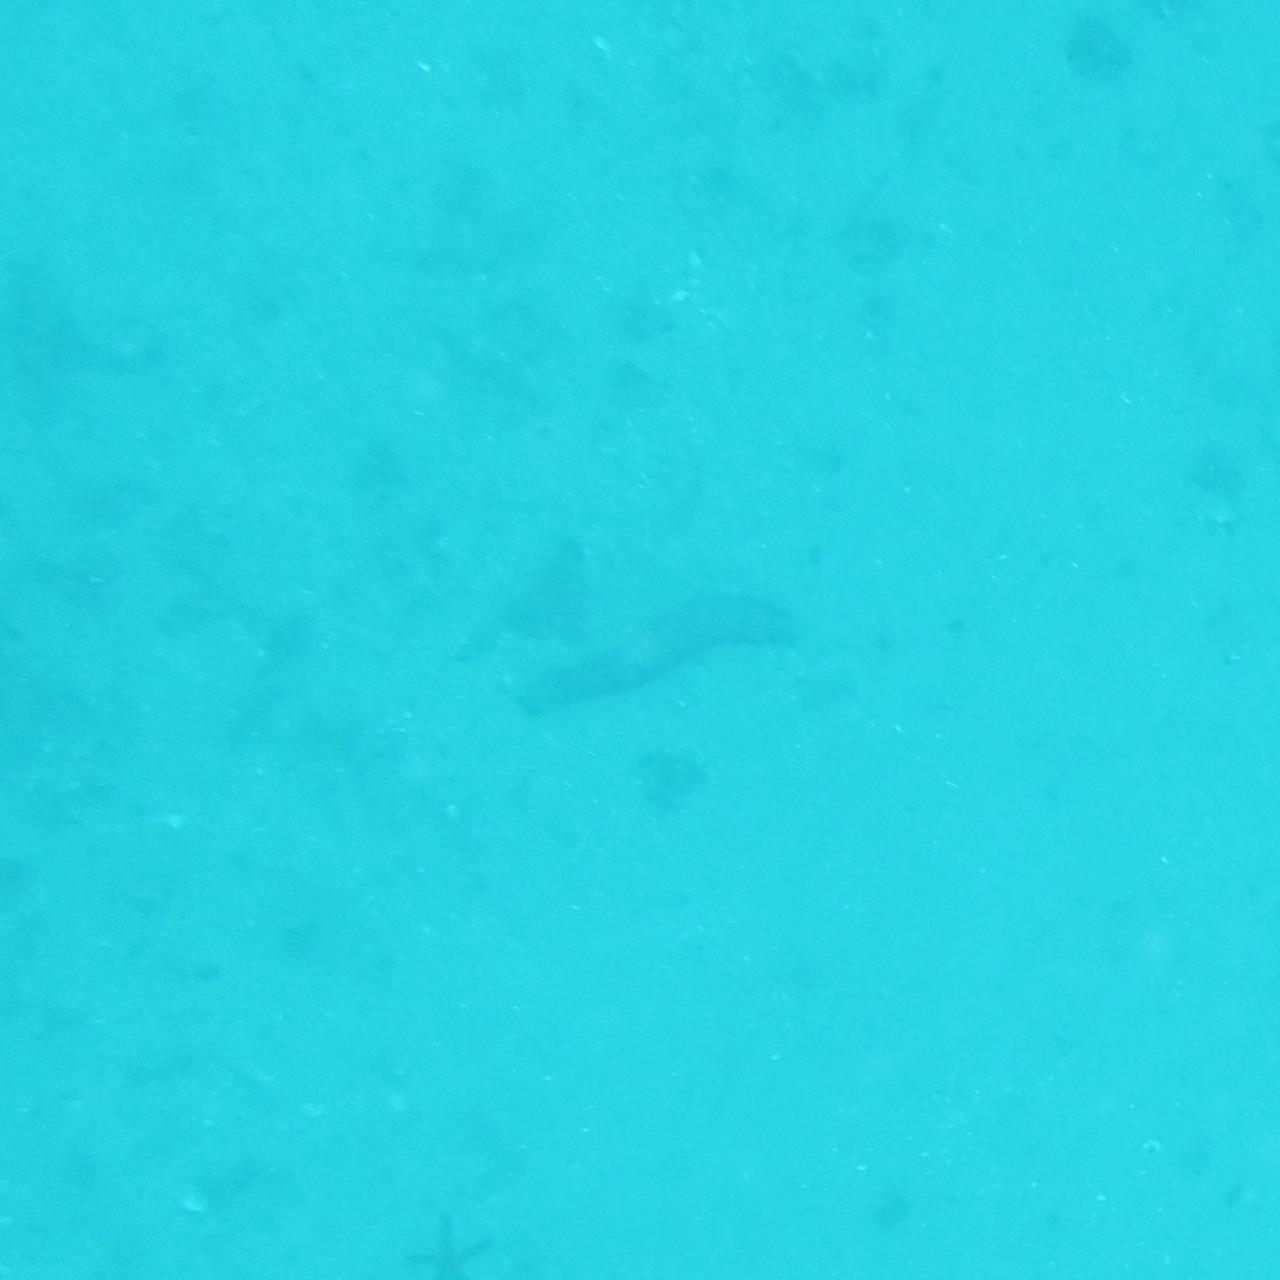Holothuria tubulosa: (489, 572, 791, 708)
